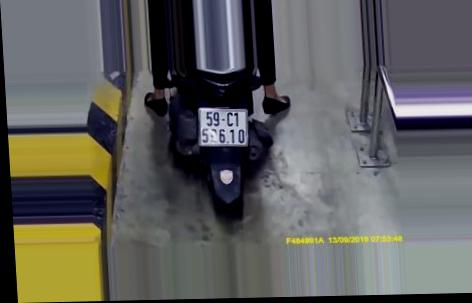License_Plate: (192, 105, 253, 150)
